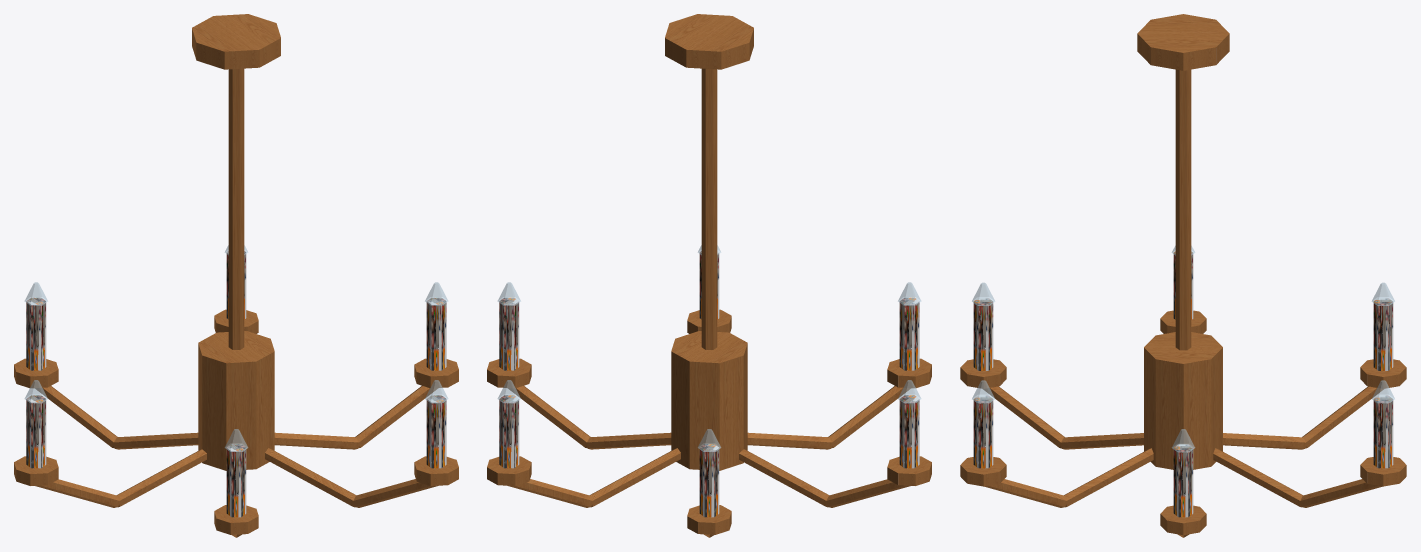
File: Chandelier.fbx
The picture shows the model from 3 angles, left to right: view 1: azimuth 30°, elevation 25°; view 2: azimuth 150°, elevation 25°; view 3: azimuth 270°, elevation 25°; orthographic projection.
Visible parts, largest first — view 1: Chandelier; view 2: Chandelier; view 3: Chandelier.
Boxes of the visible parts, x1,y1,x2,y2 form: Chandelier: [14, 14, 458, 537]; Chandelier: [487, 14, 931, 537]; Chandelier: [960, 14, 1406, 537].
Size of the model in its own units: 0.77 by 0.7446 by 0.6762.
